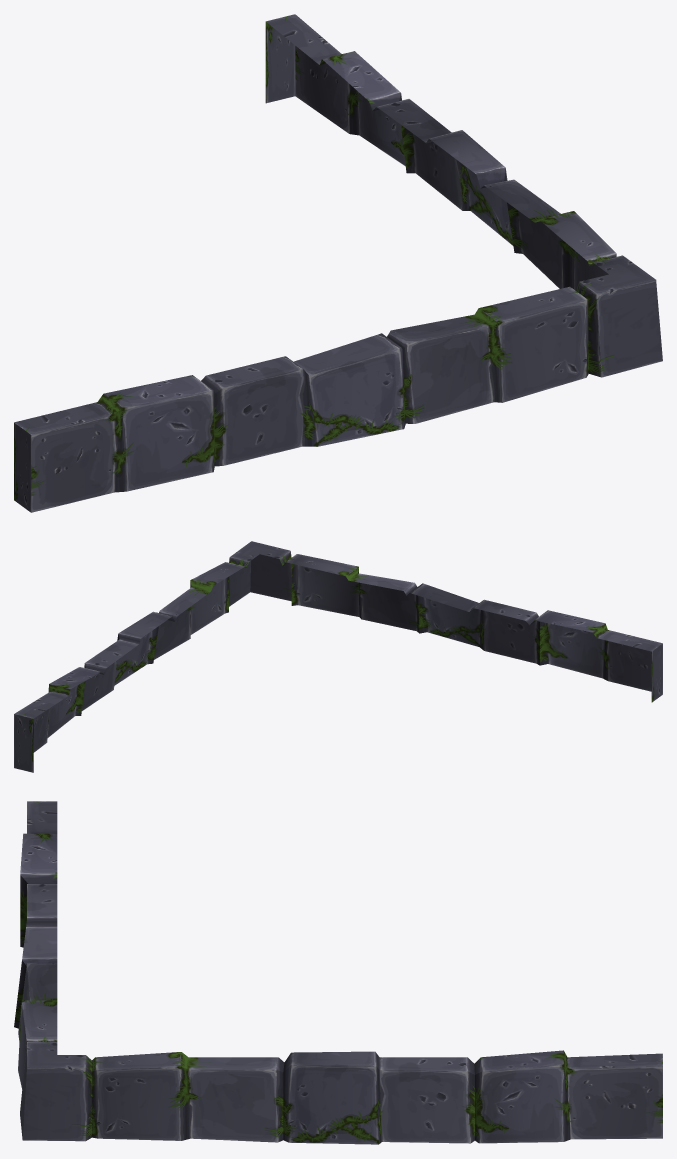
Rendered from MOD_WallTrim_01_O_corner_2.fbx.
The picture shows the model from 3 angles, top to bottom: view 1: azimuth 30°, elevation 25°; view 2: azimuth 150°, elevation 25°; view 3: azimuth 270°, elevation 25°; orthographic projection. The views are drawn at different scales.
Visible parts, largest first — view 1: MOD_WallTrim_01_O_corner_2; view 2: MOD_WallTrim_01_O_corner_2; view 3: MOD_WallTrim_01_O_corner_2.
Part boxes in pixels (x1=…): MOD_WallTrim_01_O_corner_2: x1=14, y1=14, x2=662, y2=512; MOD_WallTrim_01_O_corner_2: x1=14, y1=541, x2=662, y2=772; MOD_WallTrim_01_O_corner_2: x1=14, y1=801, x2=662, y2=1144.
Size of what is drawn, in the model's own units: 429 by 54.99 by 429.
